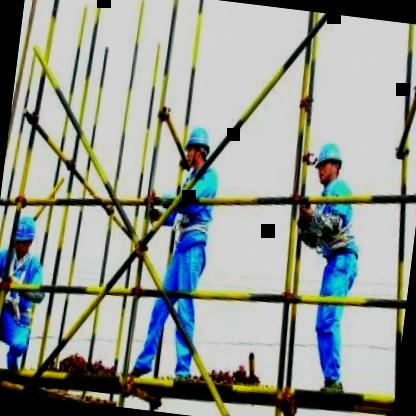helmet: (180, 118, 215, 175), (310, 136, 347, 186), (10, 207, 41, 258)
